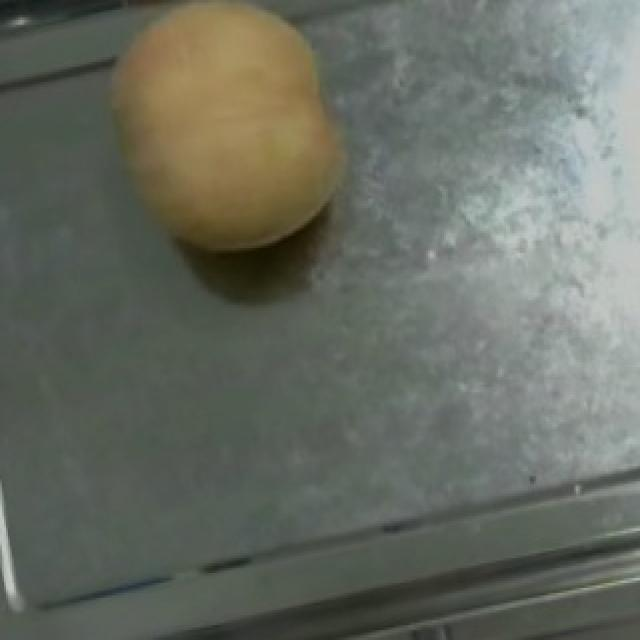Fruit: (72, 0, 382, 290)
